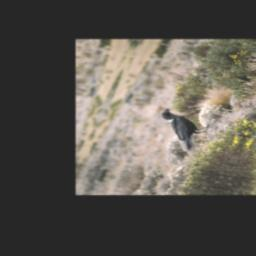Crow: (146, 106, 216, 153)
